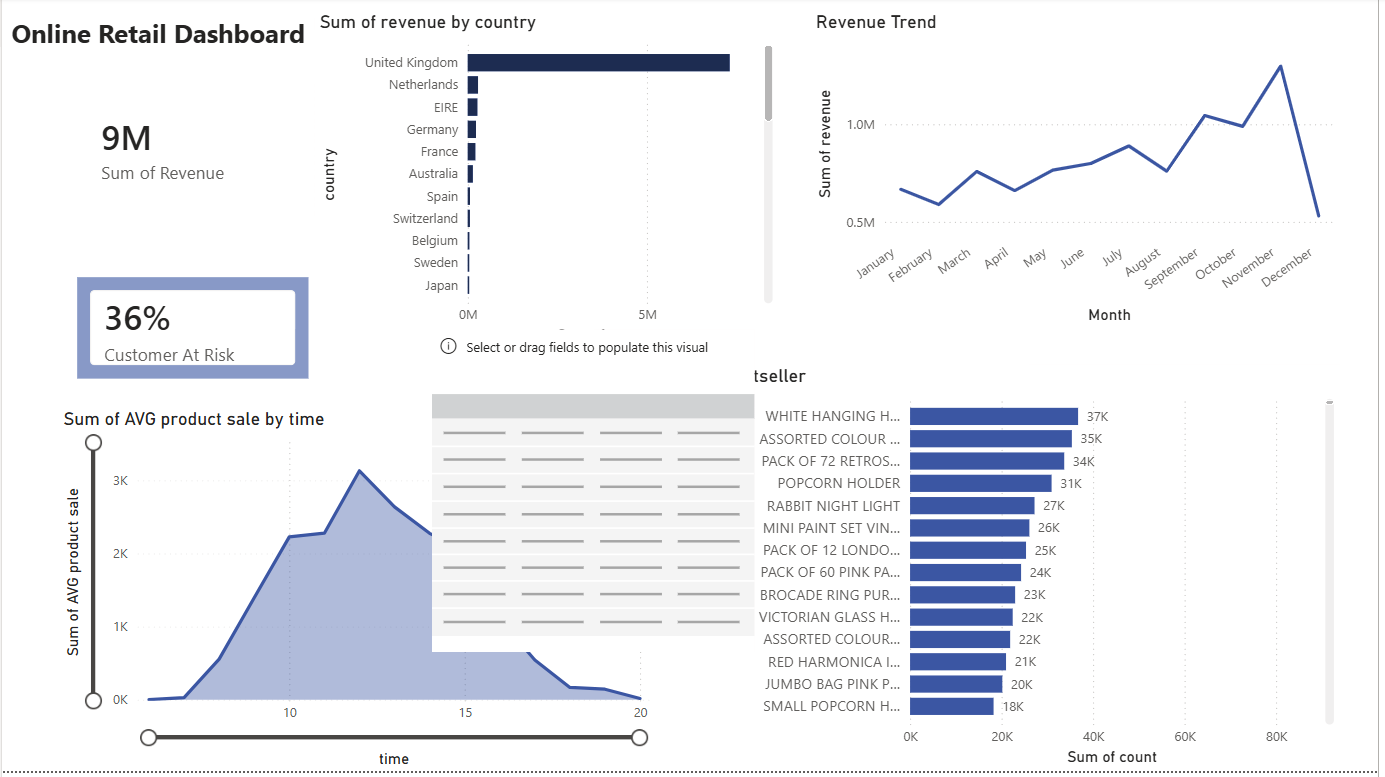

The dashboard page shown, as its layout file describes it:
{"tool":"powerbi","page":{"name":"Page 1","canvas":[1280,720],"ordinal":0},"visuals":[{"type":"clusteredBarChart","fields":{"Category":["Countries Revenue.country"],"Y":["Sum(Countries Revenue.revenue)"]},"box":[290.7,12.8,431.4,315.1],"z":0},{"type":"cardVisual","title":"Total Revenue ","fields":{"Data":["Sum(Total Revenue.Revenue)"]},"box":[52.3,50,216.3,181.4],"z":1000},{"type":"lineChart","title":"Revenue Trend ","fields":{"Category":["momgrowth.months.Variation.Date Hierarchy.Year","momgrowth.months.Variation.Date Hierarchy.Quarter","momgrowth.months.Variation.Date Hierarchy.Month","momgrowth.months.Variation.Date Hierarchy.Day"],"Y":["Sum(momgrowth.revenue)"]},"box":[752.3,12.8,491.9,296.5],"z":2000},{"type":"areaChart","fields":{"Category":["sales by time of day.Column1"],"Y":["Sum(sales by time of day.Column2)"]},"box":[52.3,382.6,555.8,338.4],"z":3000},{"type":"barChart","title":"Bestseller","fields":{"Category":["Top Products.Column1"],"Y":["Sum(Top Products.count)"]},"box":[665.1,341.9,579.1,377.9],"z":4000},{"type":"textbox","box":[0,12.8,290.7,74.4],"z":5000},{"type":"tableEx","box":[400,309.3,300,300],"z":6000},{"type":"cardVisual","fields":{"Data":["customers.% of Customer At Risk"]},"box":[65.1,255.8,225.6,104.7],"z":6001}]}

Visuals, with their boxes in screenshot pixels (x1, y1, x2, y2), scaled from the page's 1280x720 canvas onto the 1385x777 screenshot:
clusteredBarChart - Countries Revenue.country x Sum(Countries Revenue.revenue): 315 14 781 354
"Total Revenue " cardVisual: 57 54 291 250
"Revenue Trend " lineChart: 814 14 1346 334
areaChart - sales by time of day.Column1 x Sum(sales by time of day.Column2): 57 413 658 776
"Bestseller" barChart: 720 369 1346 776
textbox: 0 14 315 94
tableEx: 433 334 757 658
cardVisual - customers.% of Customer At Risk: 70 276 315 389
